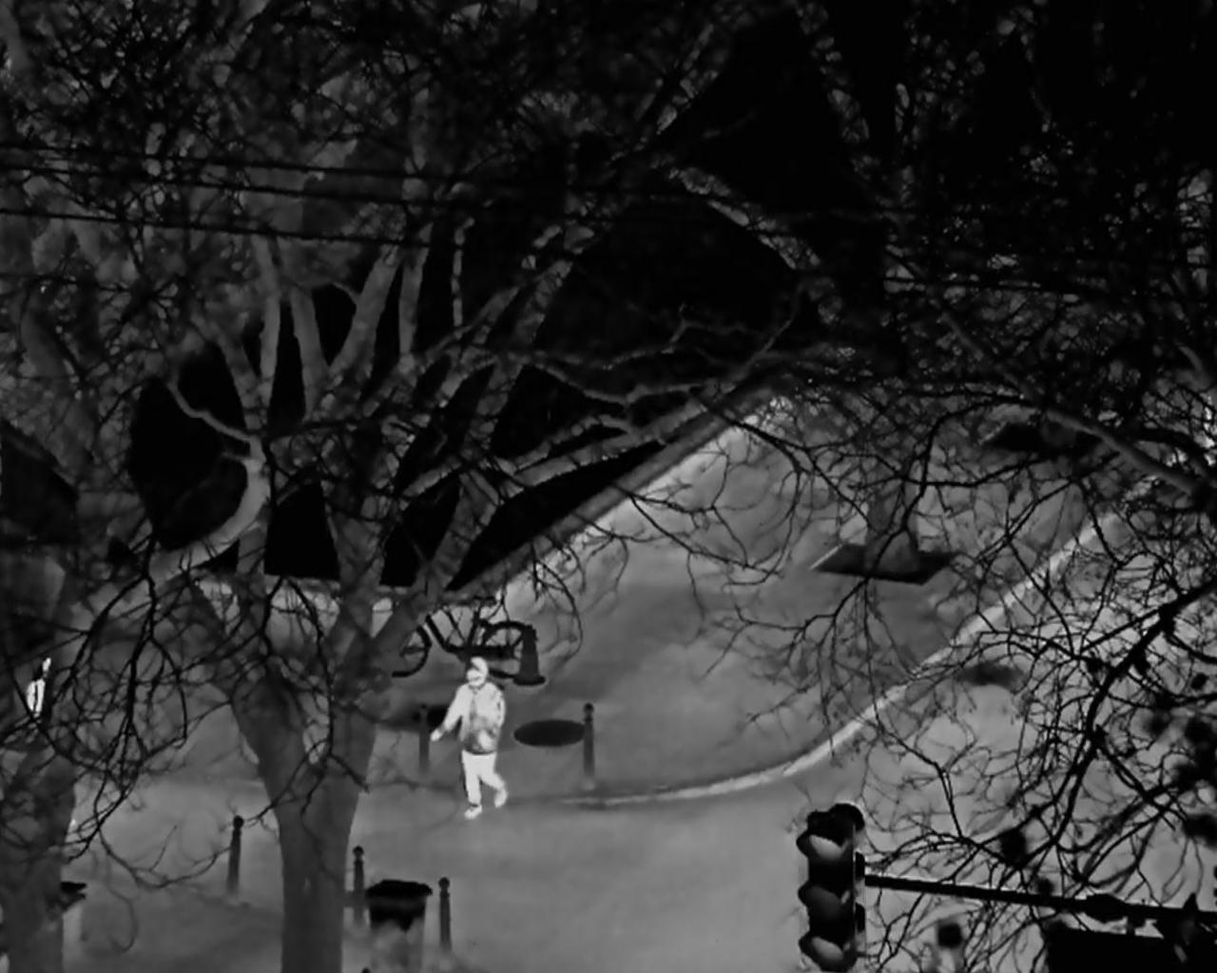person: (429, 656, 508, 818)
